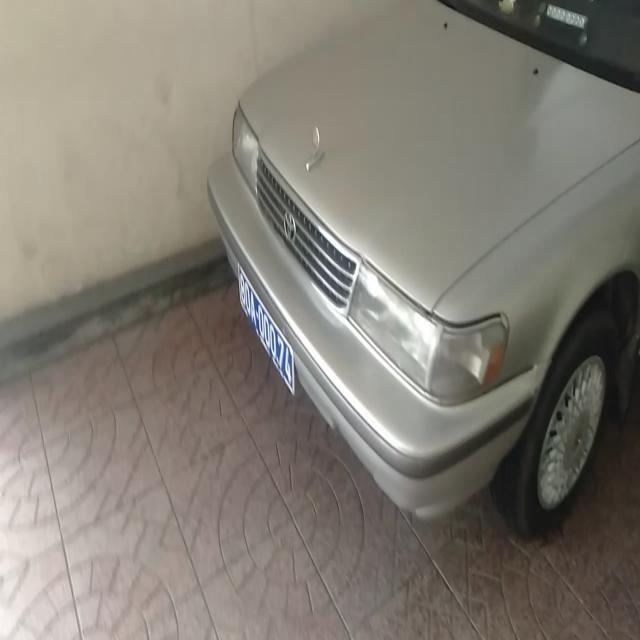bien_xanh: (226, 258, 294, 394)
